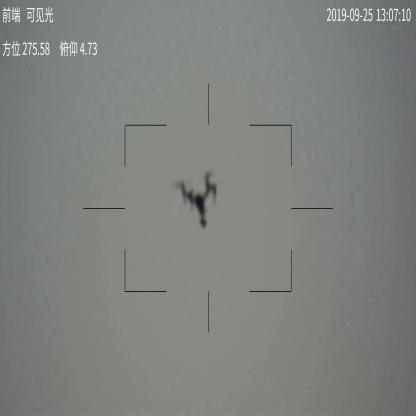uav: (174, 169, 218, 230)
